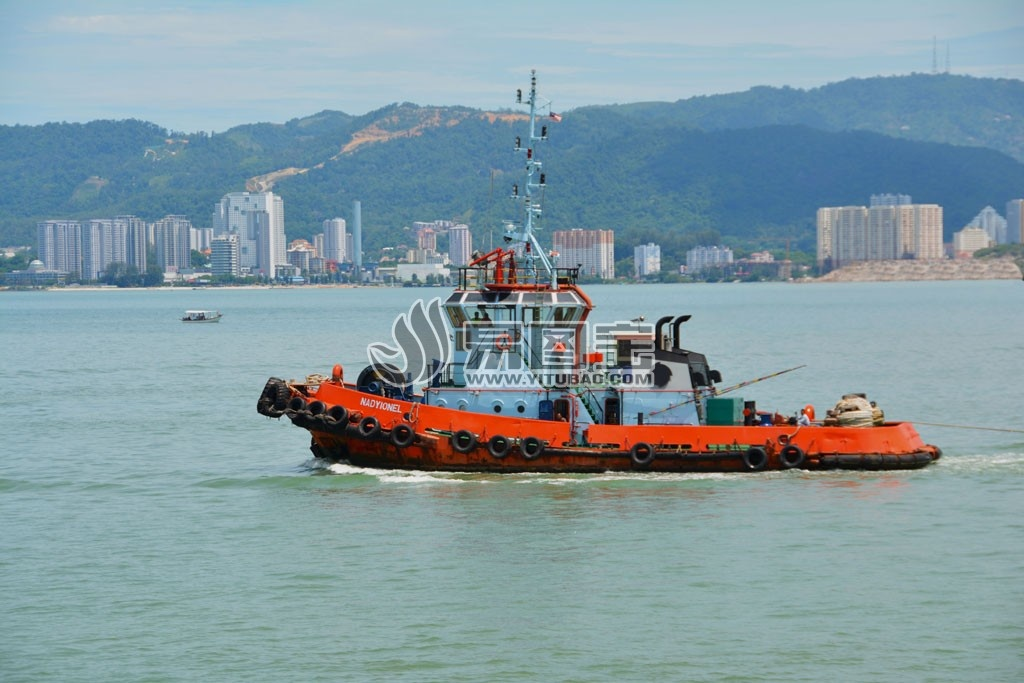otherboat: (237, 117, 950, 493), (178, 303, 226, 327)
